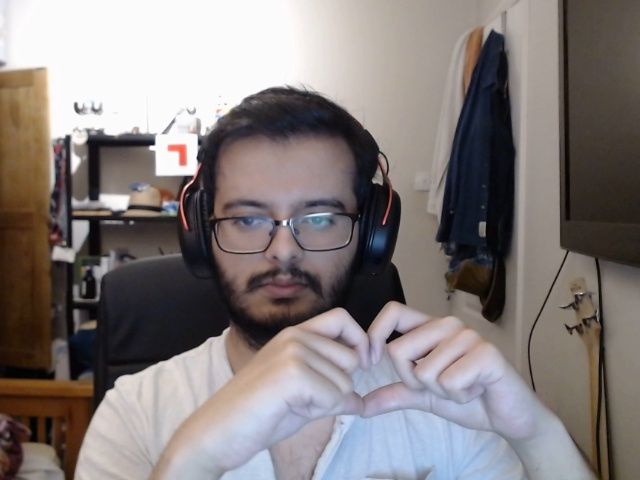Heart: (259, 302, 528, 446)
